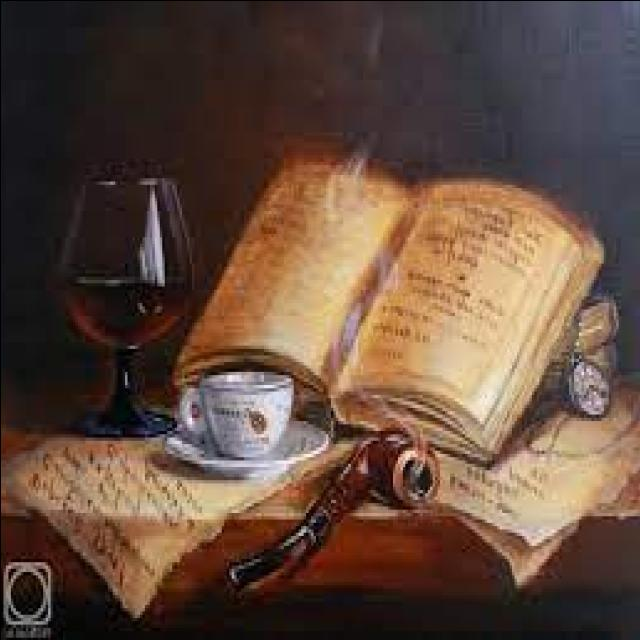book: (186, 136, 618, 426)
